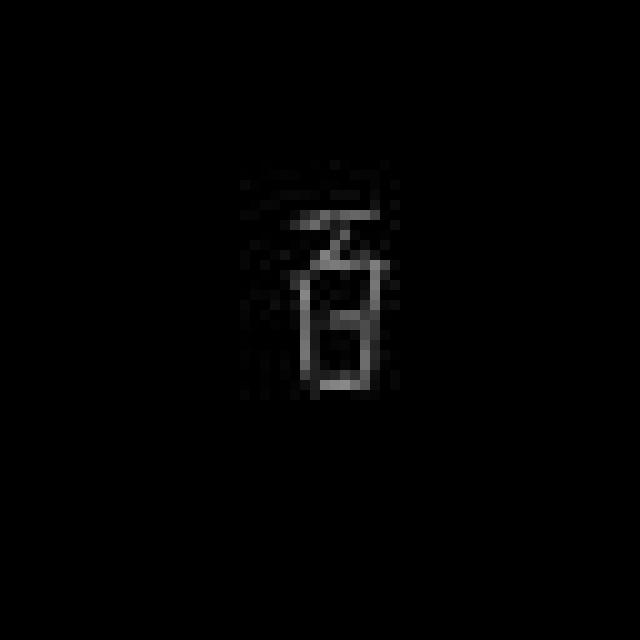100 -a hundred-: (272, 194, 397, 408)
